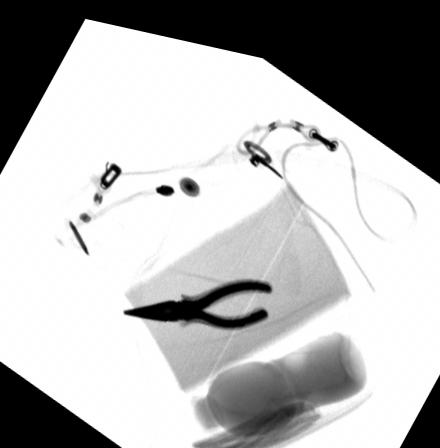Pliers: (120, 266, 272, 320)
